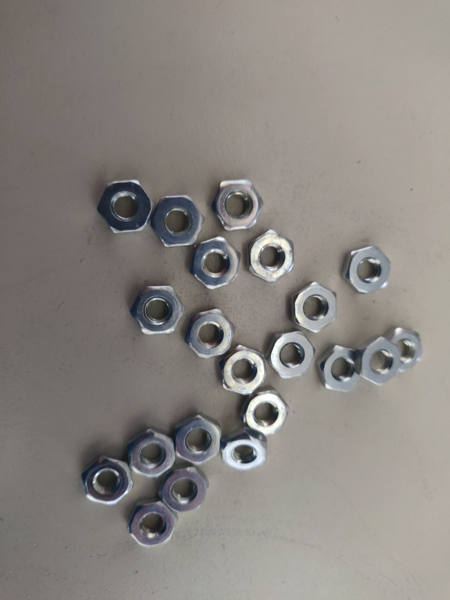nut: (99, 180, 151, 235), (182, 309, 235, 361), (131, 286, 183, 338), (153, 196, 204, 249), (217, 347, 270, 398), (247, 230, 296, 283), (213, 181, 263, 232), (261, 332, 316, 378), (290, 284, 339, 335), (81, 457, 133, 505), (342, 247, 392, 296), (191, 238, 239, 288), (127, 503, 179, 549), (127, 431, 176, 479), (173, 417, 223, 464), (320, 342, 365, 393), (360, 336, 401, 389), (165, 468, 209, 514), (240, 391, 286, 433), (225, 431, 269, 473), (392, 327, 423, 376)
